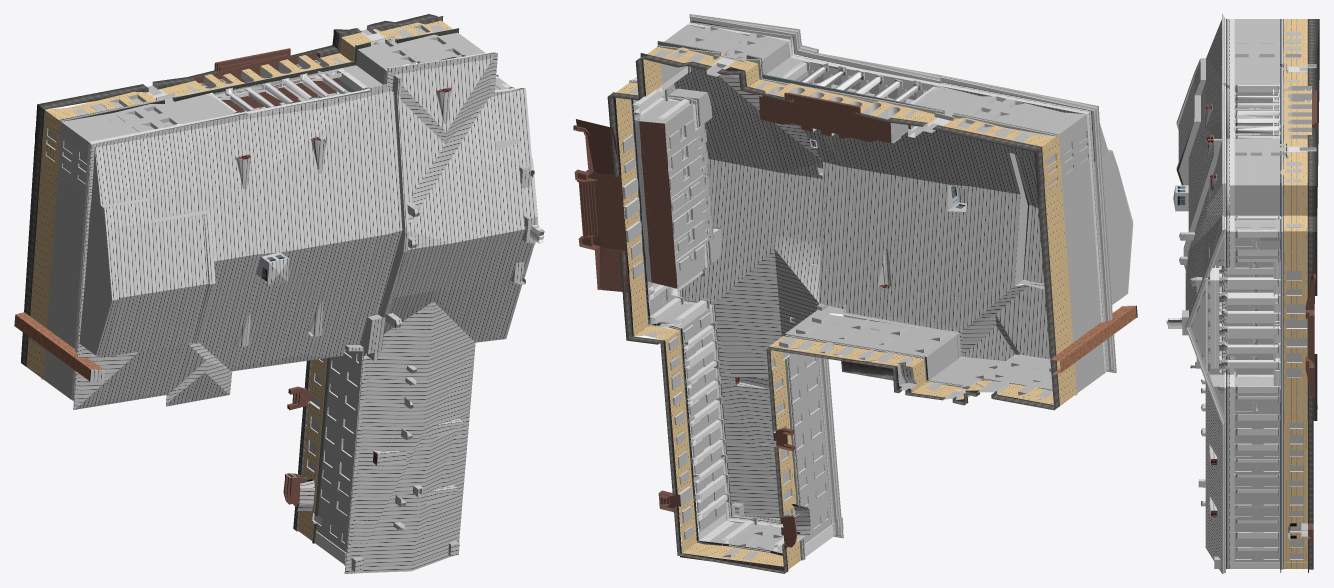
Rendered from Mere-pst-5-origo.obj.
3 renders of one model, left to right at view 1: azimuth 30°, elevation 25°; view 2: azimuth 150°, elevation 25°; view 3: azimuth 270°, elevation 25°, orthographic. The views are drawn at different scales.
Parts seen in each view (by area): view 1: Mere_pst_5; view 2: Mere_pst_5; view 3: Mere_pst_5.
Part boxes in pixels (bbox=[...]): Mere_pst_5: bbox=[14, 14, 544, 573]; Mere_pst_5: bbox=[573, 14, 1137, 573]; Mere_pst_5: bbox=[1166, 14, 1319, 573].
Size of the model in its own units: 66.25 by 65.5 by 21.96.
